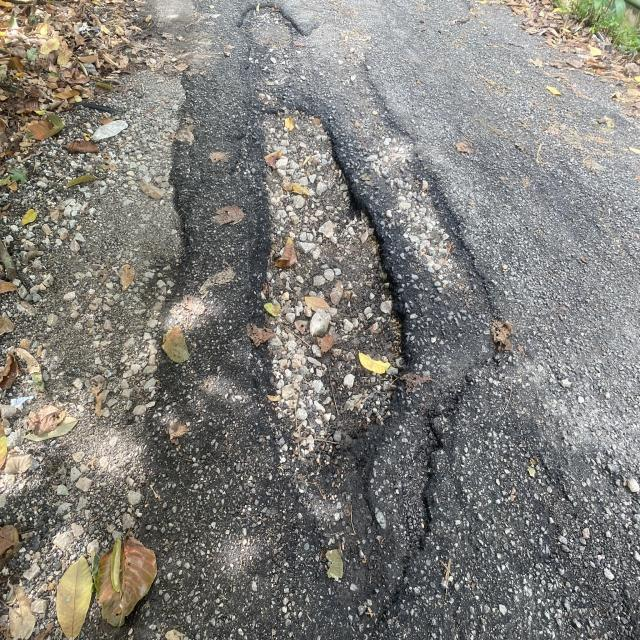Pothole: (194, 56, 449, 591)
